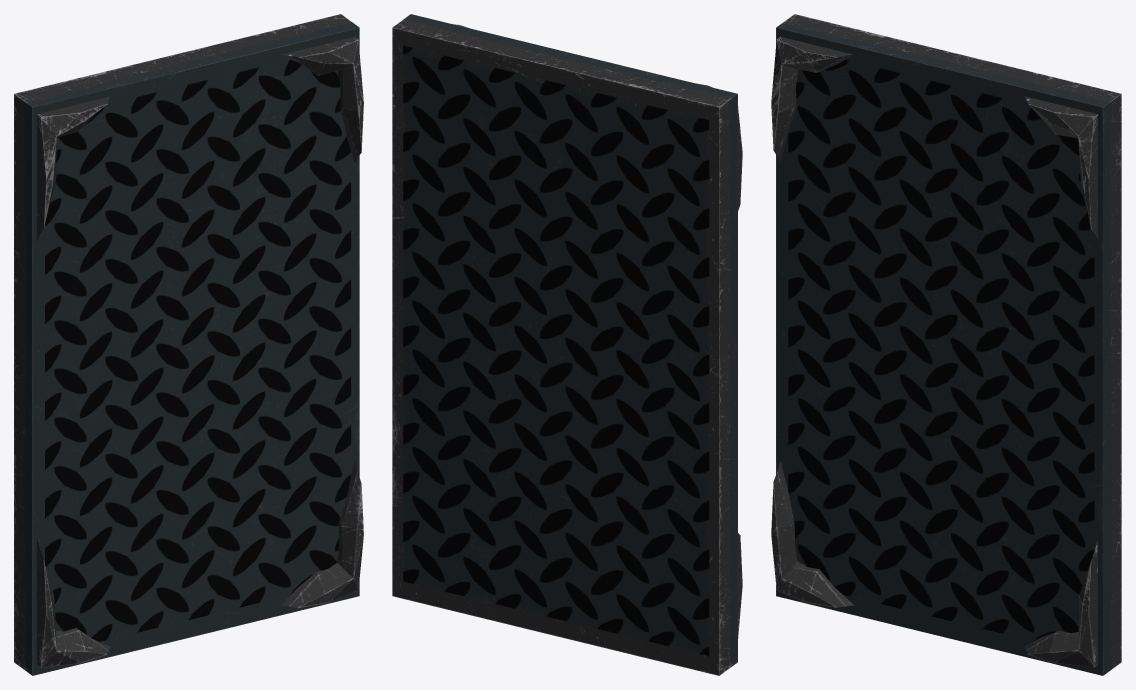
The model's file is Catwalks2Sides.gltf.
The picture shows the model from 3 angles, left to right: view 1: azimuth 30°, elevation 25°; view 2: azimuth 150°, elevation 25°; view 3: azimuth 330°, elevation 25°; orthographic projection.
Visible parts, largest first — view 1: Cube.050; view 2: Cube.050; view 3: Cube.050.
Part boxes in pixels (bbox=[...]): Cube.050: bbox=[14, 14, 363, 675]; Cube.050: bbox=[392, 14, 742, 675]; Cube.050: bbox=[771, 14, 1121, 675].
Bounding box in the file's own units: 3.02 × 5.02 × 0.4464.
1 material, 1 textured.
